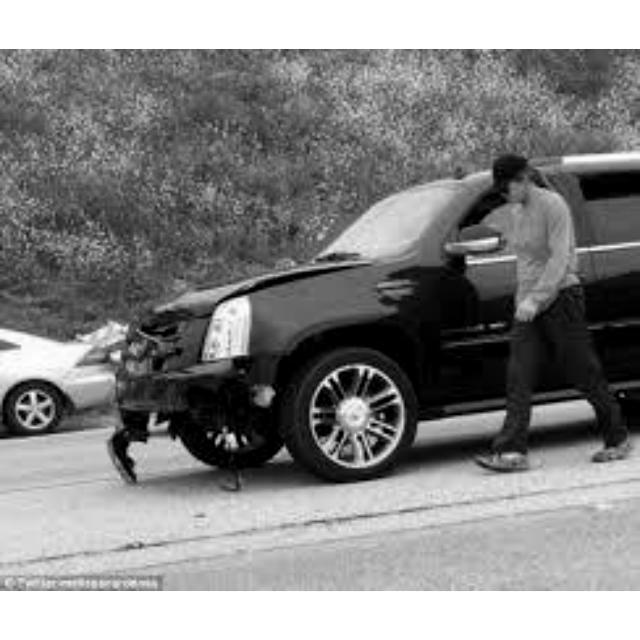bonnet-dent: (150, 267, 330, 311)
front-bumper-dent: (111, 327, 210, 403)
